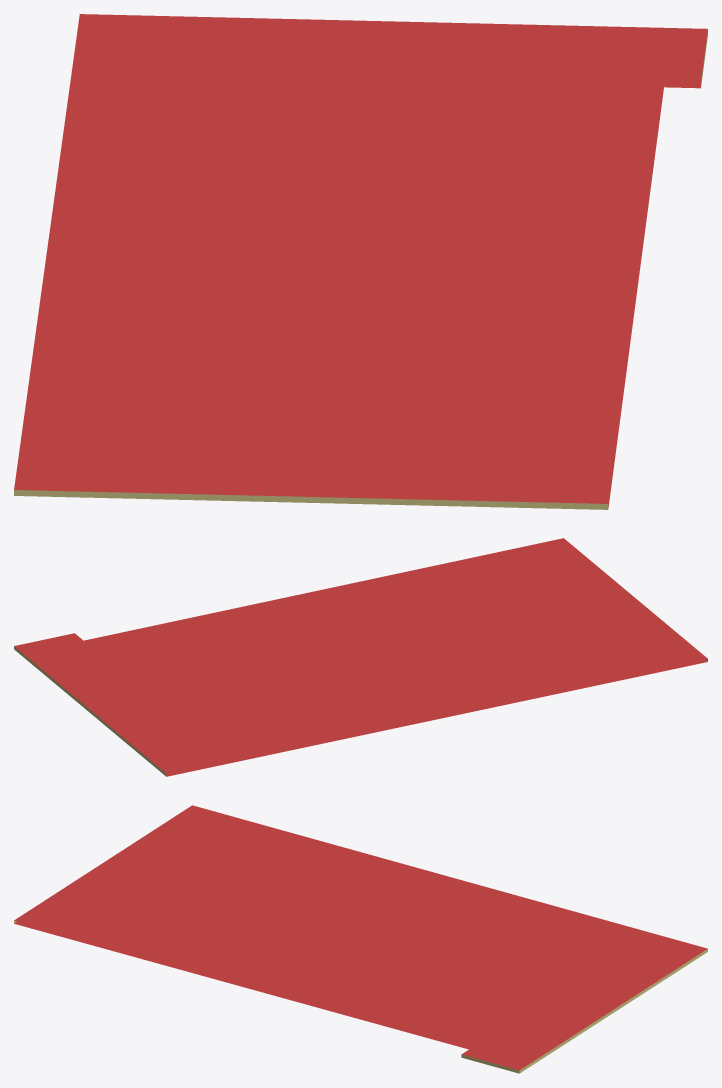
3 renders of one model, top to bottom at view 1: azimuth 30°, elevation 25°; view 2: azimuth 150°, elevation 25°; view 3: azimuth 270°, elevation 25°, orthographic. The views are drawn at different scales.
Visible parts, largest first — view 1: group_3, group_4, group_5; view 2: group_3, group_5, group_4; view 3: group_3, group_5, group_4.
Boxes of the visible parts, x1,y1,x2,y2 form: group_3: [14, 14, 707, 503]; group_4: [14, 30, 707, 509]; group_5: [608, 81, 700, 507]; group_3: [14, 538, 707, 773]; group_5: [166, 659, 707, 776]; group_4: [14, 646, 707, 776]; group_3: [14, 805, 707, 1070]; group_5: [14, 921, 472, 1049]; group_4: [14, 920, 707, 1073].
Bounding box in the file's own units: 17.39 × 19.24 × 0.1.
